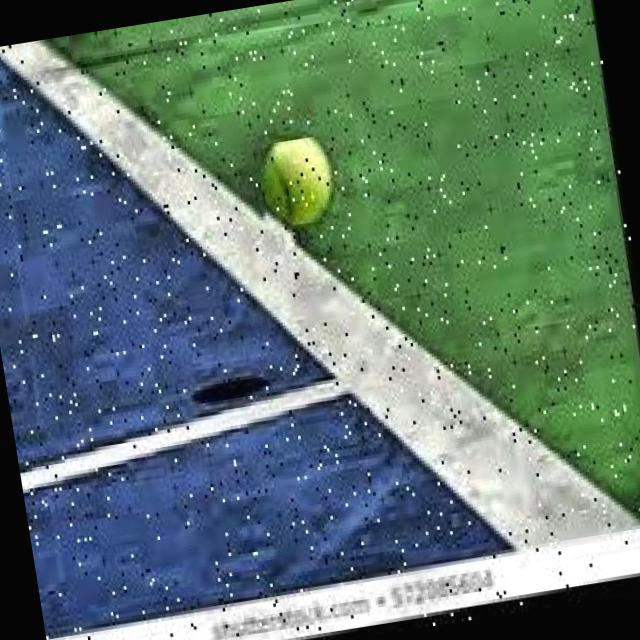Tennis Ball: (252, 136, 350, 255)
